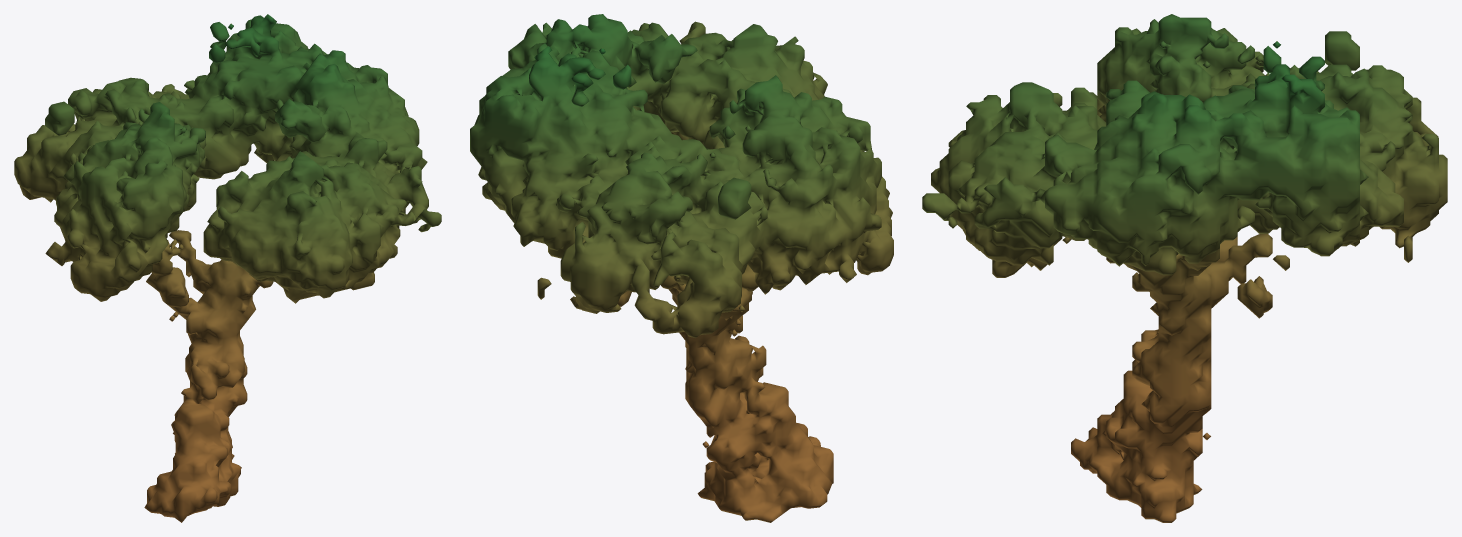
The model's file is gen8_colored.obj.
3 renders of one model, left to right at view 1: azimuth 30°, elevation 25°; view 2: azimuth 150°, elevation 25°; view 3: azimuth 270°, elevation 25°, orthographic. The views are drawn at different scales.
Size of the model in its own units: 51 by 64 by 60.
Materials: 1 (1 with a texture image).
